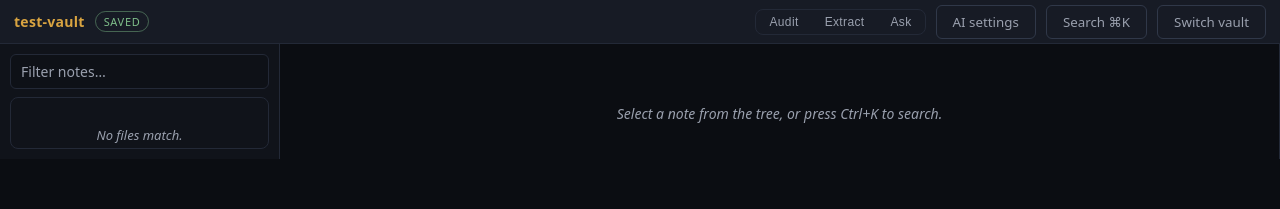
Test: App — AI right rail (M2 I1) › Audit tab toggles off on a second click
Step 1. Click the button "Audit" → (784, 22), box [756, 10, 812, 34]
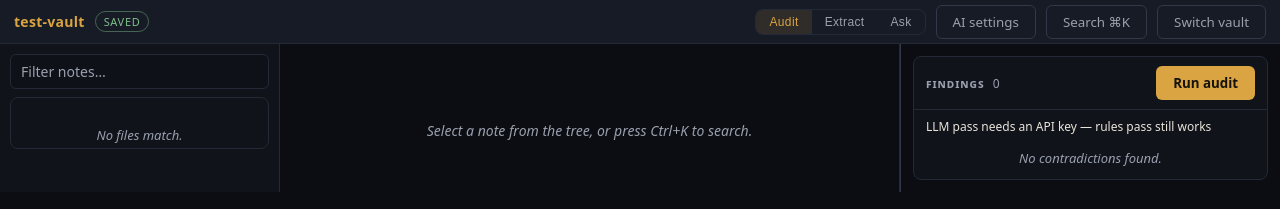
Step 2. Click the button "Audit" → (784, 22), box [756, 10, 812, 34]
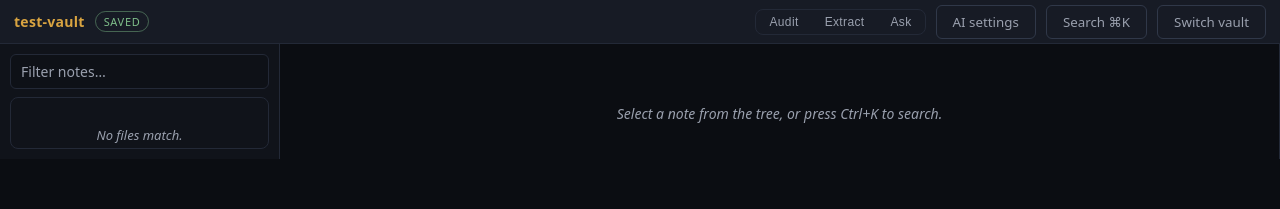
Expected: the element named "Findings" is gone
